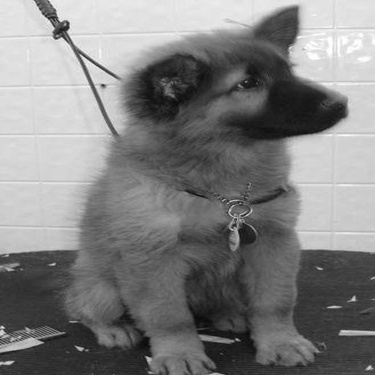dog: (62, 2, 356, 374)
